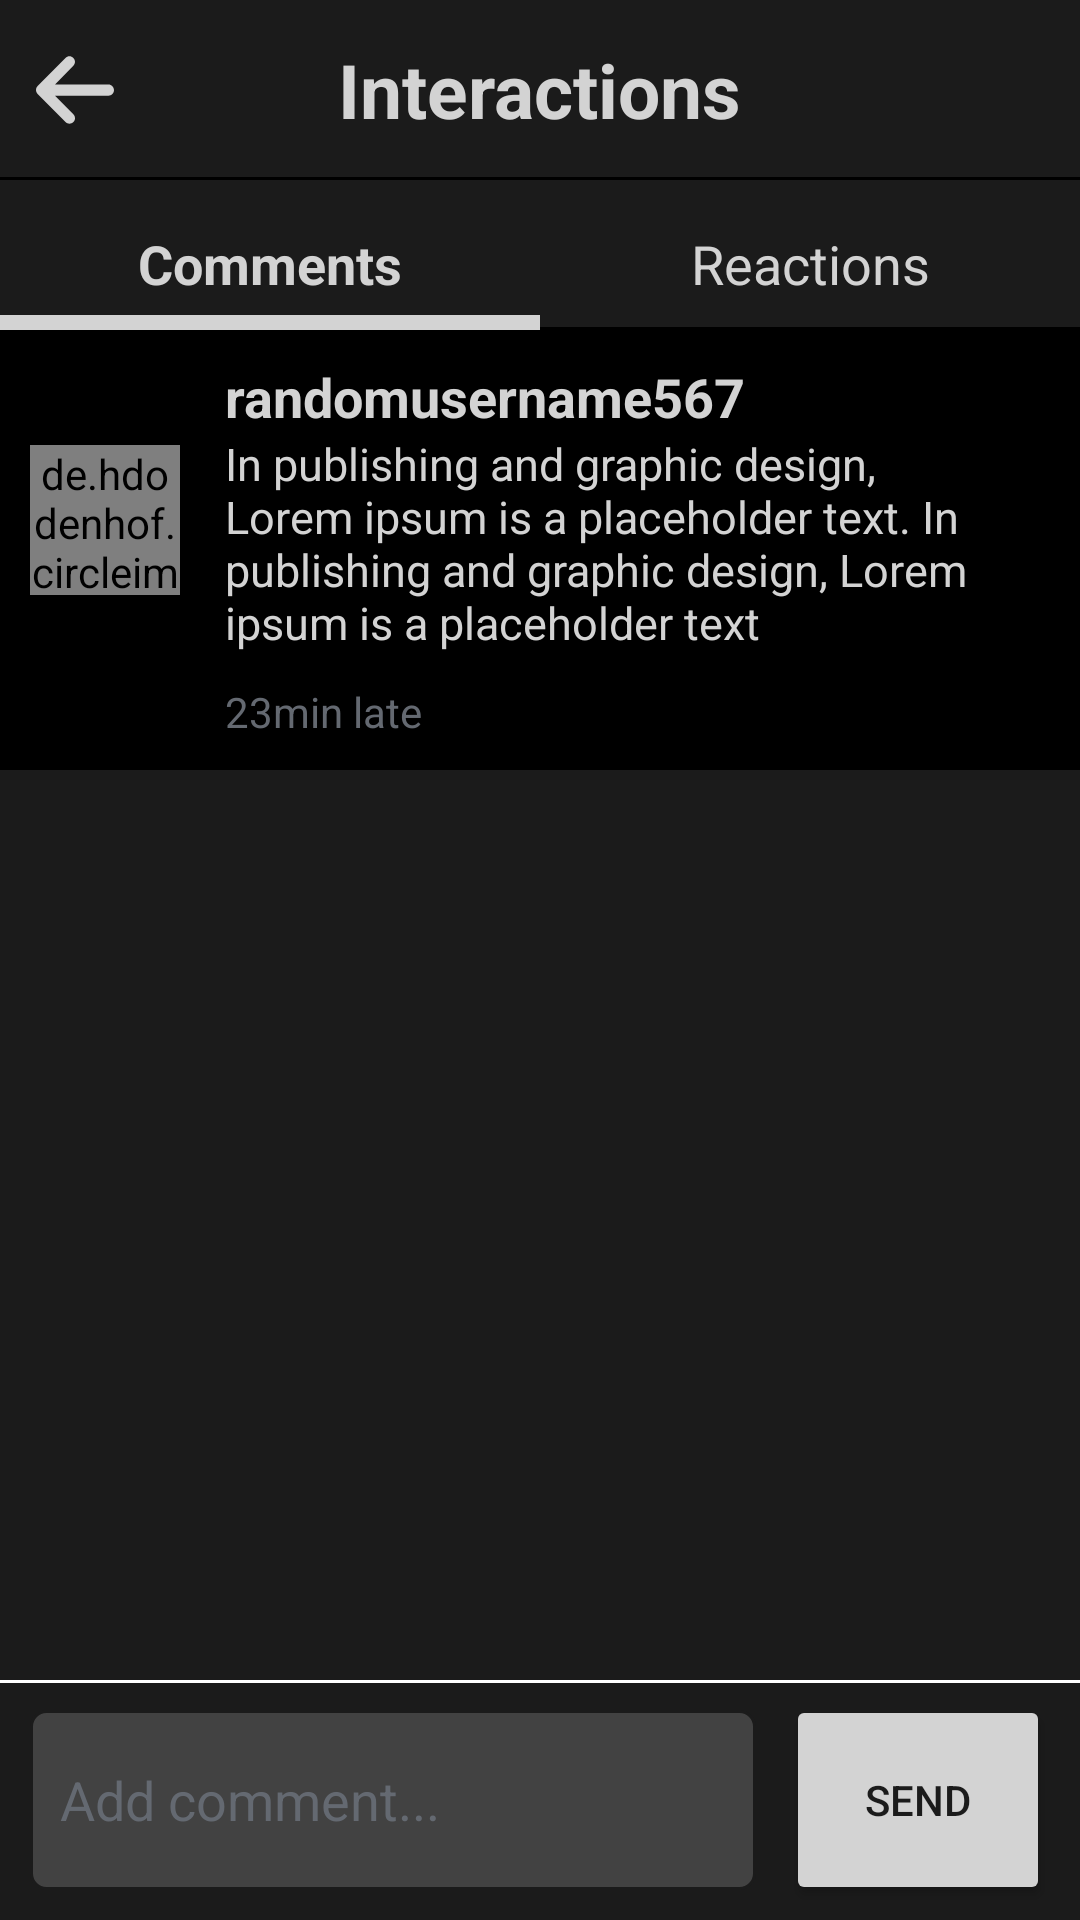

Named icons in this screenshot (1080w x 1920h) and their centers, [x,y]:
arrow left: [75,90]
